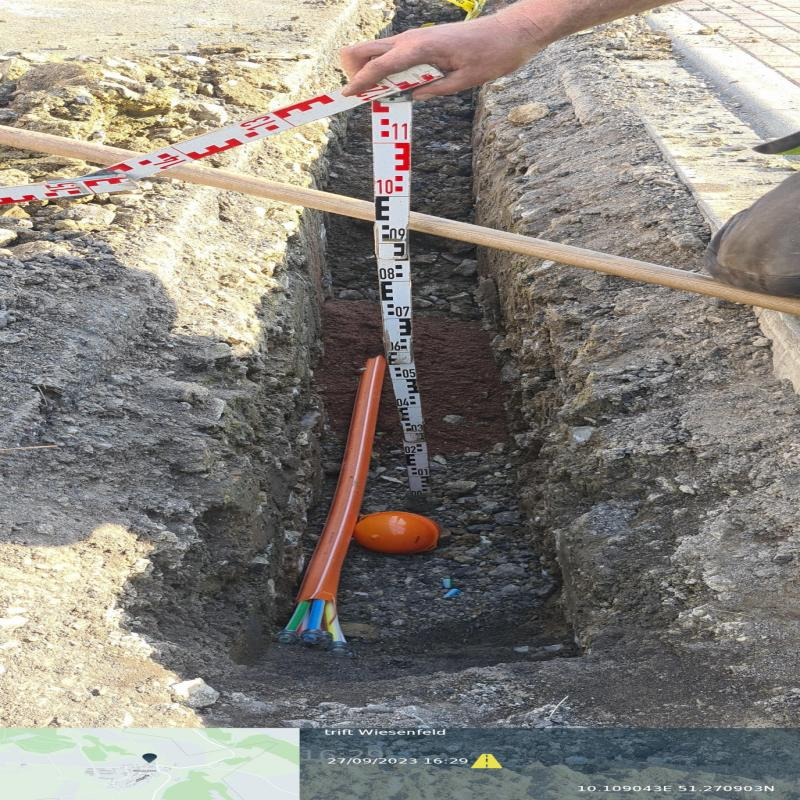Kugelmarker: (355, 511, 441, 553)
Orang-Speednetrohrchen: (269, 355, 386, 653)
